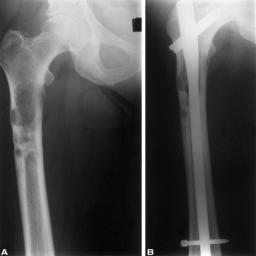cancer: (11, 79, 48, 177)
